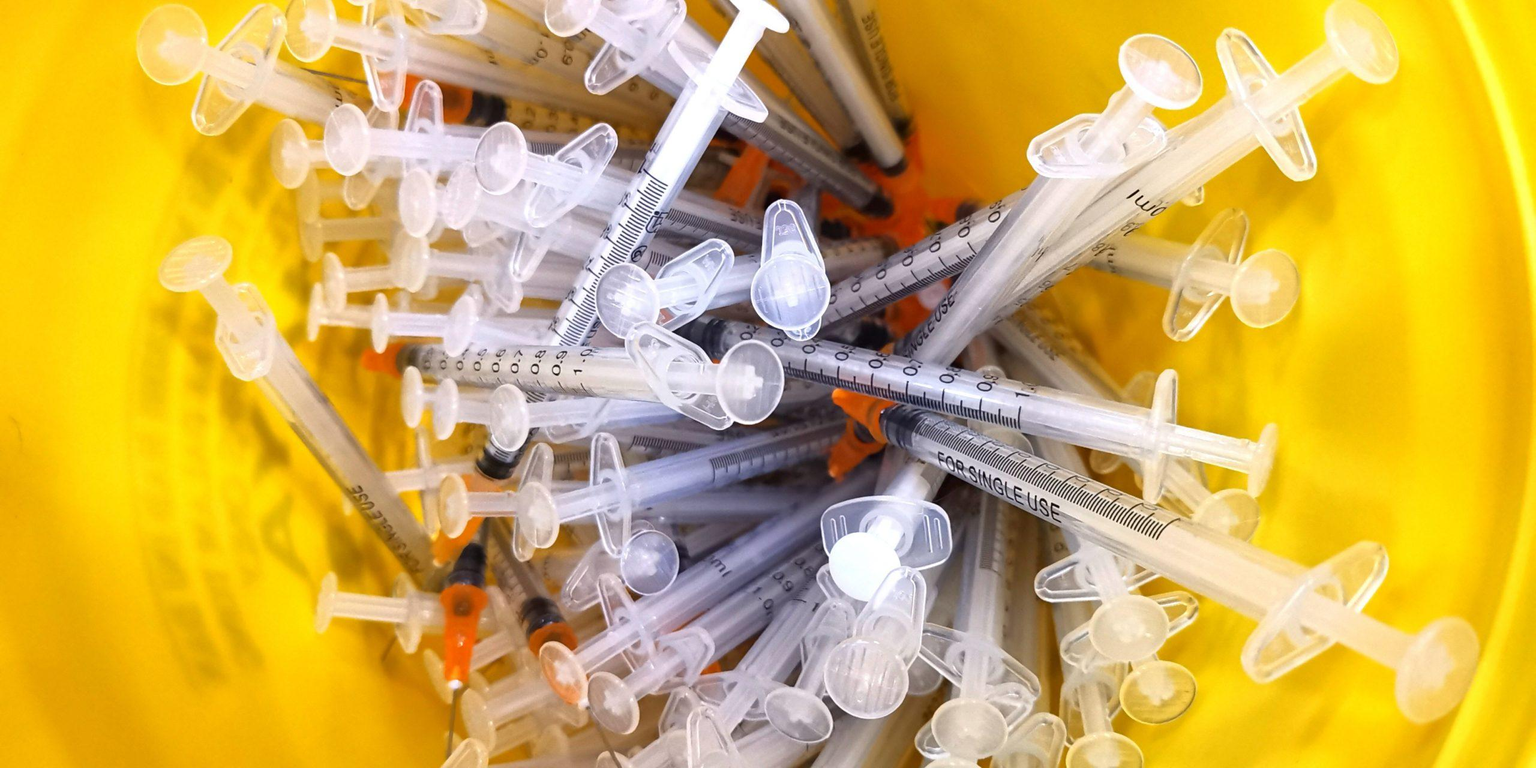Syringe: (865, 406, 1478, 722), (997, 0, 1397, 317), (461, 472, 872, 737), (683, 317, 1277, 493), (896, 35, 1201, 363), (158, 236, 440, 585), (1040, 0, 1396, 272), (550, 0, 787, 345), (440, 419, 842, 555), (284, 0, 655, 125), (587, 544, 825, 733), (401, 324, 782, 428), (916, 499, 1040, 760), (1037, 535, 1197, 724), (136, 4, 358, 135), (598, 215, 829, 337), (1089, 208, 1298, 341), (668, 583, 824, 751), (780, 0, 906, 175), (508, 0, 715, 100), (759, 568, 857, 743), (474, 124, 634, 227), (319, 80, 486, 176), (405, 0, 592, 82), (757, 28, 866, 155), (484, 521, 577, 652), (751, 201, 829, 340), (370, 293, 545, 354), (314, 573, 443, 653), (1136, 460, 1260, 539), (838, 0, 911, 134), (458, 385, 605, 450), (1061, 668, 1144, 767), (467, 586, 532, 689), (298, 215, 400, 262)
